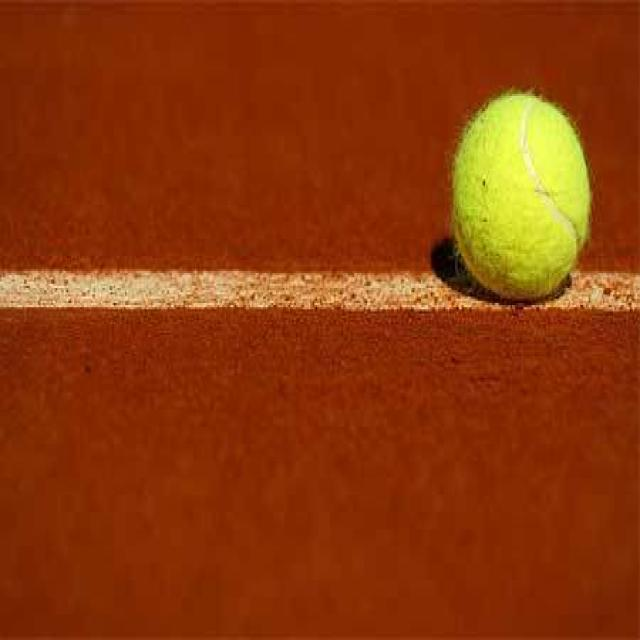Tennis Ball: (451, 90, 593, 305)
